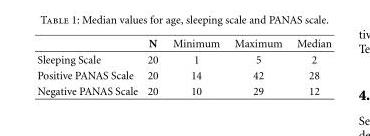table: (36, 36, 330, 96)
table column: (36, 36, 141, 96), (164, 36, 226, 96), (226, 36, 288, 96), (288, 36, 330, 96), (141, 36, 164, 96)
table column header: (36, 36, 330, 51)
table row: (36, 51, 330, 67), (36, 36, 330, 51), (36, 67, 330, 82), (36, 82, 330, 96)
